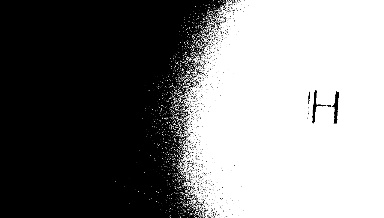H: (309, 87, 341, 124)
